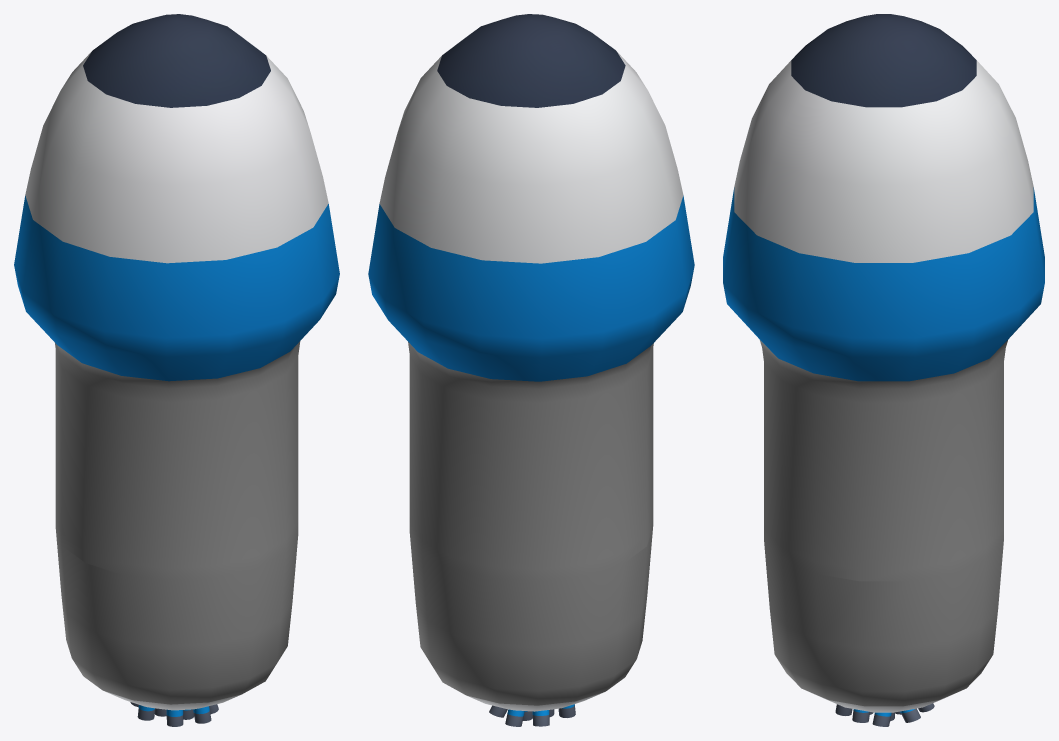
File: F_P_Fireworks_4_4.FBX
The picture shows the model from 3 angles, left to right: view 1: azimuth 30°, elevation 25°; view 2: azimuth 150°, elevation 25°; view 3: azimuth 270°, elevation 25°; orthographic projection.
Visible parts, largest first — view 1: F_P_Fireworks_4_4; view 2: F_P_Fireworks_4_4; view 3: F_P_Fireworks_4_4.
Boxes of the visible parts, x1,y1,x2,y2 form: F_P_Fireworks_4_4: (14,14,339,726); F_P_Fireworks_4_4: (368,14,694,726); F_P_Fireworks_4_4: (723,14,1044,726).
Bounding box in the file's own units: 54.97 × 131 × 54.97.
